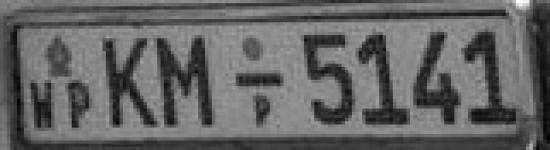-: (234, 68, 290, 92)
1: (357, 29, 415, 129), (466, 28, 519, 132)
4: (414, 28, 464, 128)
5: (296, 29, 356, 132)
K: (100, 30, 153, 131)
M: (153, 31, 227, 131)
P: (67, 78, 100, 134)
W: (26, 76, 62, 133)
